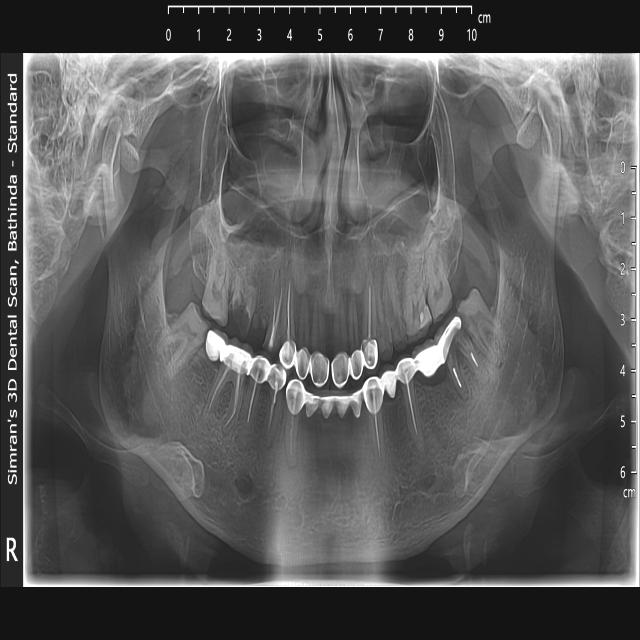Caries: (180, 302, 210, 348), (457, 292, 486, 331), (231, 299, 251, 338)
Crown: (286, 316, 462, 420), (278, 335, 379, 387), (205, 329, 286, 391)
Filling: (407, 297, 432, 338)
Missing teeth: (301, 416, 368, 460), (417, 373, 460, 433), (184, 352, 215, 403), (252, 288, 272, 340)
Periapical lesion: (456, 388, 471, 408), (495, 355, 504, 371)
Root Canal Treatment: (435, 313, 489, 400), (199, 349, 252, 437), (398, 354, 425, 463), (242, 350, 269, 437), (363, 375, 386, 472), (263, 366, 286, 448), (360, 280, 380, 372), (285, 378, 305, 467), (265, 278, 285, 357), (279, 278, 294, 367)
